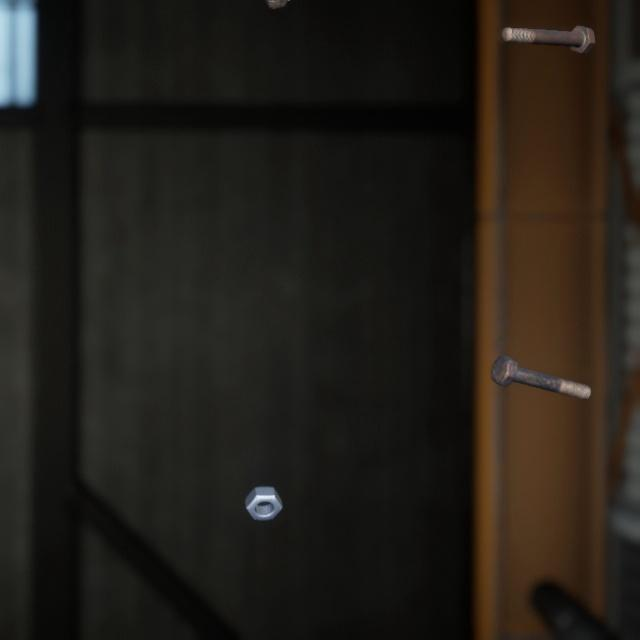bolt: (486, 330, 595, 385), (496, 12, 599, 49)
nut: (240, 460, 287, 503)
